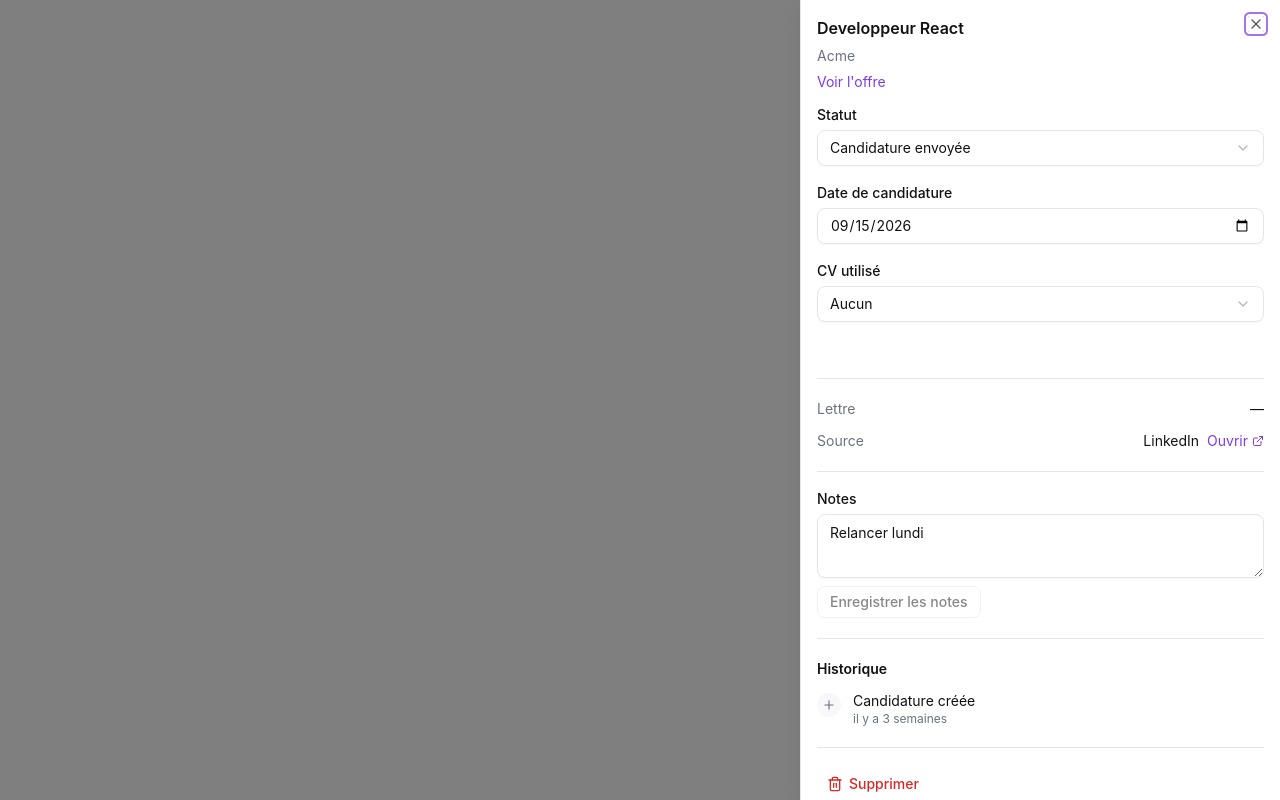
Test: ApplicationSheet › propose les CV de l_utilisateur en plus de « Aucun » et « CV principal »
Expected: the heading "Developpeur React" is shown, x1=817 y1=18 x2=964 y2=38
Step 1. Click the dropdown named "CV utilisé" → (851, 304), box x1=817 y1=286 x2=1264 y2=322
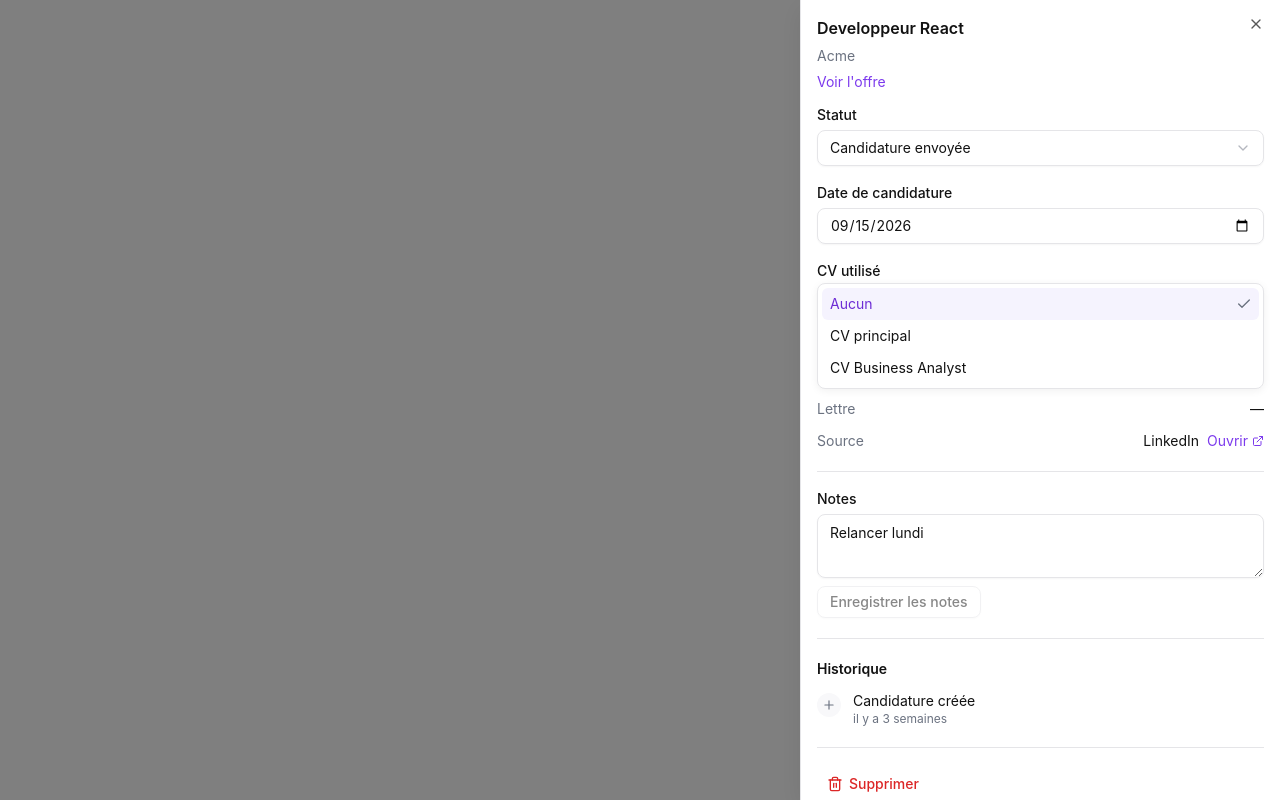
Expected: the option "Aucun" is shown, x1=822 y1=288 x2=1259 y2=320
Expected: the option "CV principal" is shown, x1=830 y1=327 x2=911 y2=344
Expected: the option "CV Business Analyst" is shown, x1=830 y1=359 x2=966 y2=376
